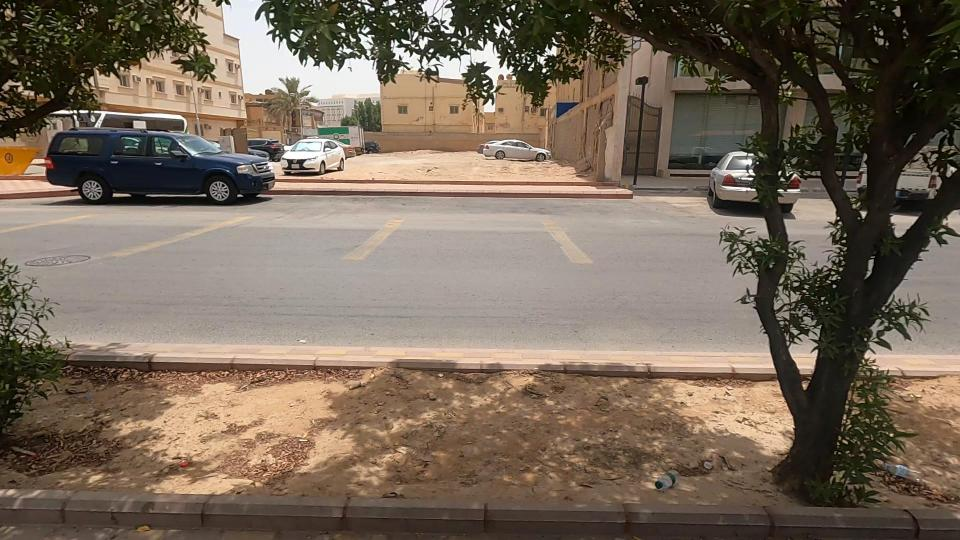CLUTTER_SIDEWALK: (0, 276, 895, 540)
GARBAGE: (609, 438, 721, 527), (849, 425, 954, 509)
